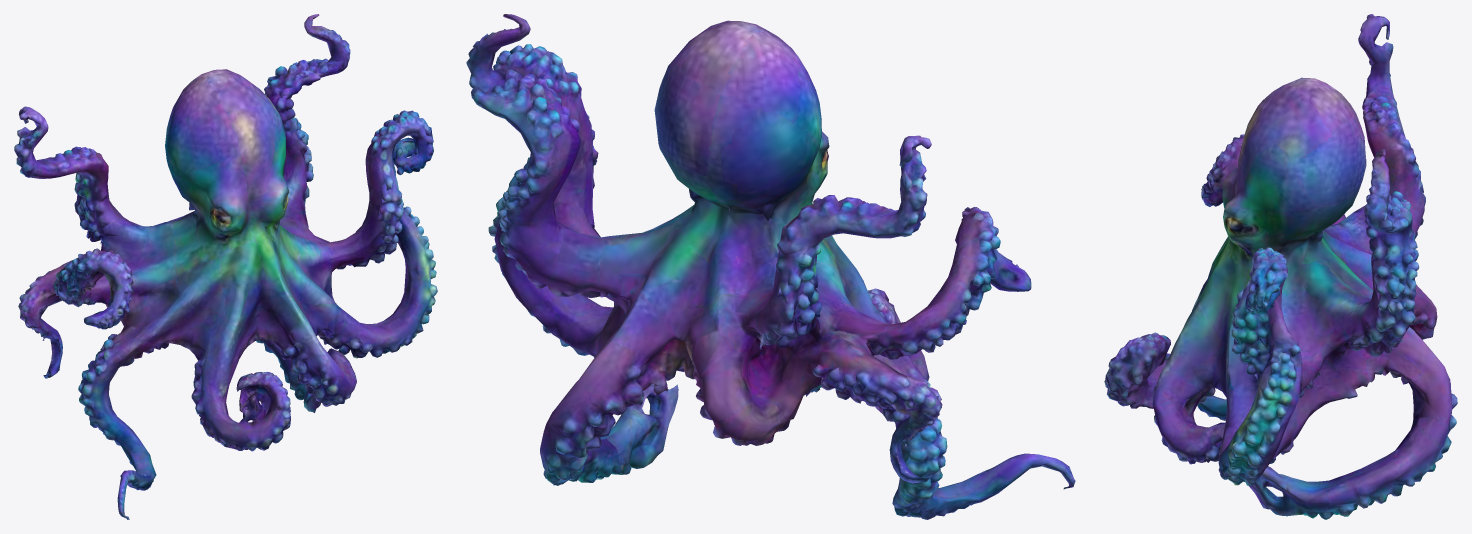
The picture shows the model from 3 angles, left to right: view 1: azimuth 30°, elevation 25°; view 2: azimuth 150°, elevation 25°; view 3: azimuth 270°, elevation 25°; orthographic projection. The views are drawn at different scales.
Size of the model in its own units: 2 by 1.87 by 1.49.
Materials: 1 (1 with a texture image).
